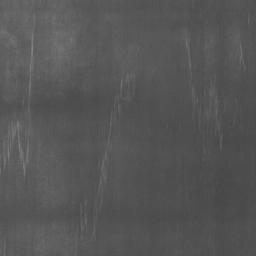Silk spot: (171, 16, 240, 152), (61, 152, 114, 240), (1, 127, 36, 193), (105, 78, 139, 140), (34, 23, 50, 59), (237, 42, 256, 72), (35, 0, 50, 16)
